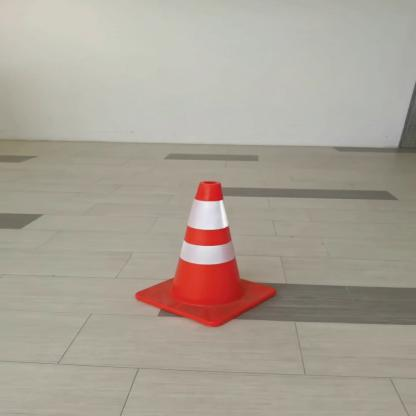cone: (132, 180, 286, 329)
